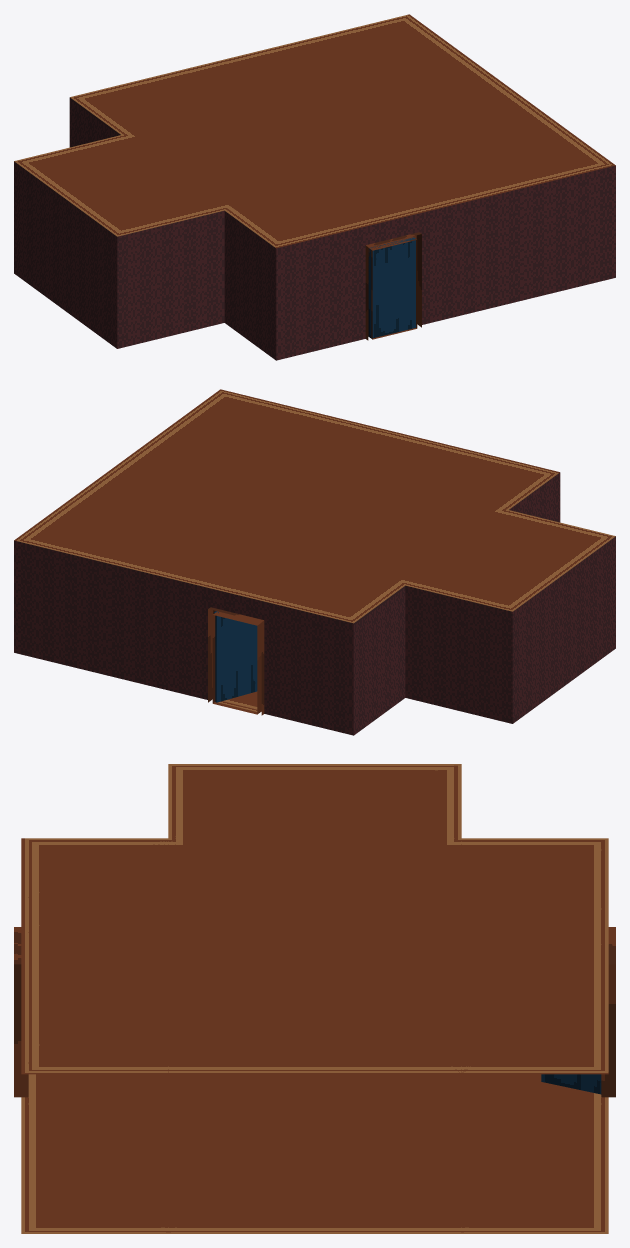
Rendered from mafia.glb.
The picture shows the model from 3 angles, top to bottom: view 1: azimuth 30°, elevation 25°; view 2: azimuth 150°, elevation 25°; view 3: azimuth 270°, elevation 25°; orthographic projection. The views are drawn at different scales.
Parts seen in each view (by area): view 1: Room, Door1; view 2: Room, Door2; view 3: Room, Door2.
Part boxes in pixels (x1,y1,x2,y2): Room: (14, 14, 615, 360); Door1: (368, 237, 415, 338); Room: (14, 389, 615, 735); Door2: (213, 611, 257, 702); Room: (14, 764, 615, 1233); Door2: (541, 1074, 601, 1094).
Size of the model in its own units: 25 by 6 by 20.5.
2 materials, 2 textured.
